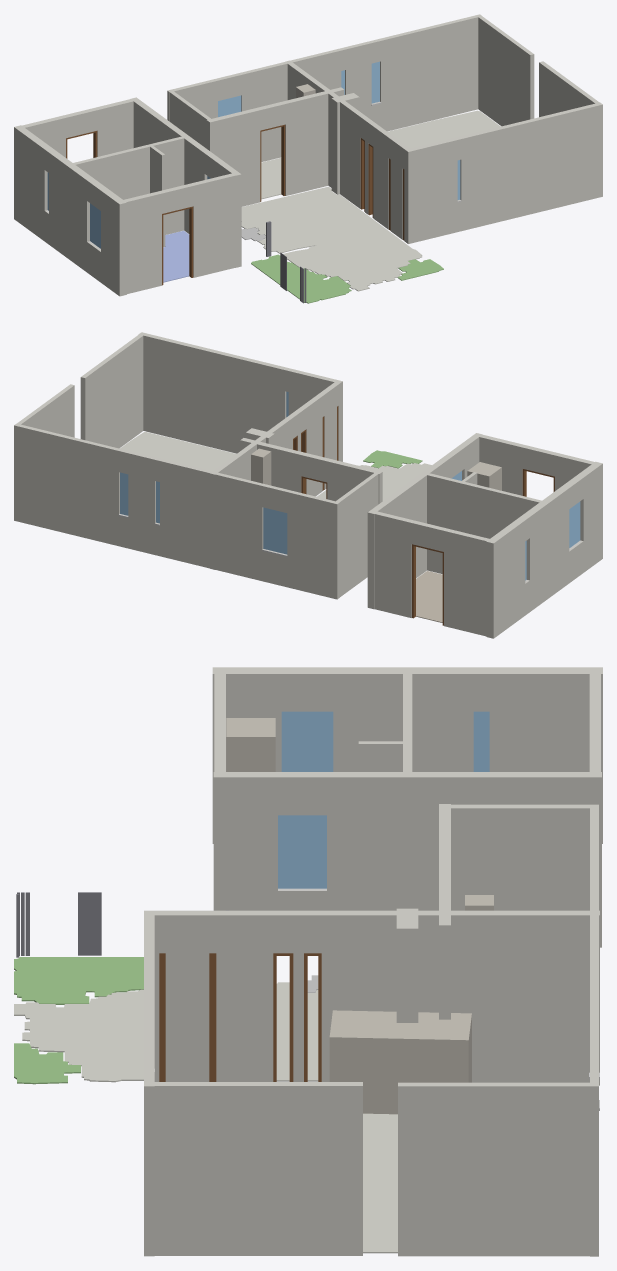
3 views of the same model, one above another, from view 1: azimuth 30°, elevation 25°; view 2: azimuth 150°, elevation 25°; view 3: azimuth 270°, elevation 25° (orthographic). The views are drawn at different scales.
Visible parts, largest first — view 1: walls, floor_7_Undefined, floor_6_Undefined, floor_3_Outdoor, floor_2_Bed_Room, floor_1_Undefined, railings, floor_4_Outdoor, door_1, door_4, door_12, window_0 (+1 smaller); view 2: walls, floor_6_Undefined, floor_0_Storage, floor_7_Undefined, window_5, furniture_5_chimney, furniture_1_closet, floor_4_Outdoor, door_2, window_0; view 3: walls, furniture_4_fireplace, floor_7_Undefined, floor_3_Outdoor, floor_6_Undefined, window_3, window_0, furniture_0_closet, railings, floor_4_Outdoor, door_12, door_9 (+3 smaller).
Part boxes in pixels (x1=…): walls: x1=14, y1=14, x2=602, y2=296; floor_7_Undefined: x1=241, y1=186, x2=422, y2=291; floor_6_Undefined: x1=387, y1=110, x2=500, y2=148; floor_3_Outdoor: x1=251, y1=254, x2=351, y2=303; floor_2_Bed_Room: x1=163, y1=230, x2=189, y2=282; floor_1_Undefined: x1=261, y1=158, x2=281, y2=199; railings: x1=266, y1=221, x2=306, y2=303; floor_4_Outdoor: x1=397, y1=259, x2=443, y2=280; door_1: x1=162, y1=206, x2=193, y2=285; door_4: x1=260, y1=124, x2=285, y2=201; door_12: x1=368, y1=143, x2=373, y2=217; window_0: x1=90, y1=203, x2=100, y2=248; walls: x1=14, y1=332, x2=602, y2=638; floor_6_Undefined: x1=120, y1=432, x2=235, y2=471; floor_0_Storage: x1=416, y1=571, x2=442, y2=622; floor_7_Undefined: x1=317, y1=463, x2=431, y2=500; window_5: x1=263, y1=507, x2=287, y2=554; furniture_5_chimney: x1=251, y1=448, x2=271, y2=485; furniture_1_closet: x1=467, y1=462, x2=501, y2=490; floor_4_Outdoor: x1=363, y1=450, x2=422, y2=468; door_2: x1=412, y1=544, x2=443, y2=625; window_0: x1=569, y1=501, x2=580, y2=547; walls: x1=144, y1=667, x2=602, y2=1256; furniture_4_fireplace: x1=329, y1=1010, x2=471, y2=1114; floor_7_Undefined: x1=14, y1=982, x2=318, y2=1082; floor_3_Outdoor: x1=14, y1=957, x2=143, y2=1004; floor_6_Undefined: x1=363, y1=1113, x2=397, y2=1253; window_3: x1=278, y1=815, x2=326, y2=888; window_0: x1=281, y1=711, x2=333, y2=771; furniture_0_closet: x1=226, y1=718, x2=275, y2=771; railings: x1=16, y1=892, x2=228, y2=957; floor_4_Outdoor: x1=14, y1=1043, x2=80, y2=1084; door_12: x1=273, y1=953, x2=293, y2=1081; door_9: x1=304, y1=953, x2=321, y2=1081.
Size of the model in its own units: 14.25 by 2.72 by 8.47.
